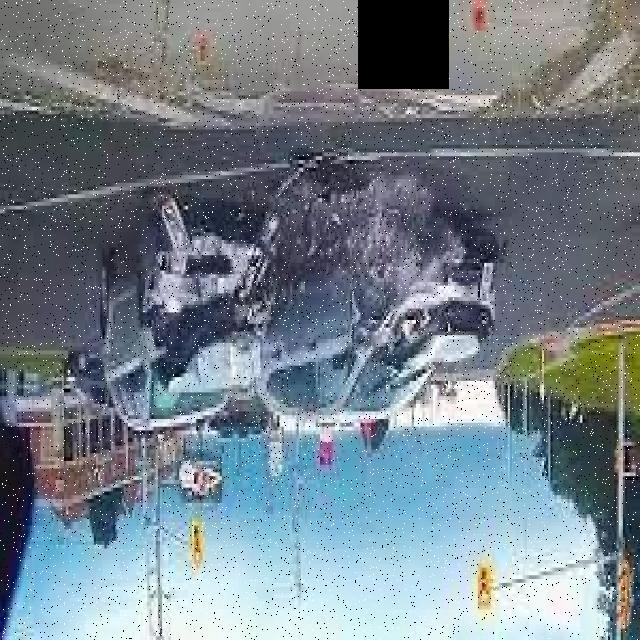moderate: (102, 200, 495, 448)
